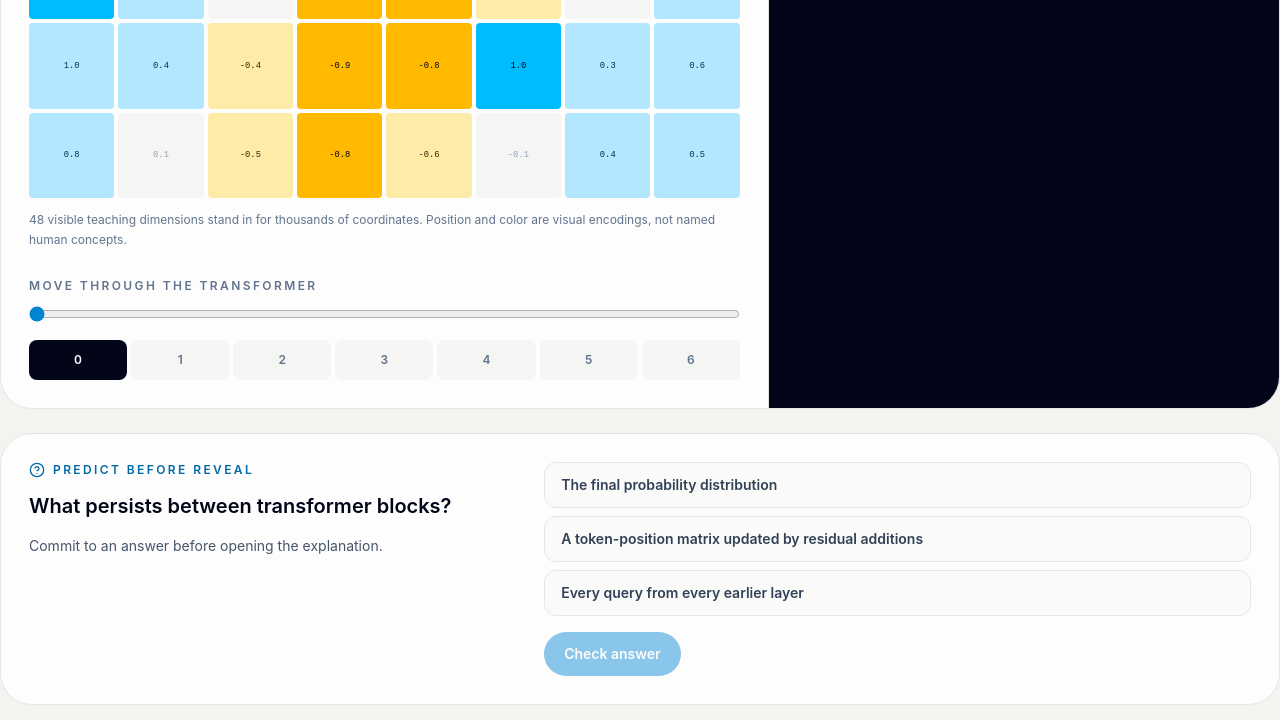
ResidualStreamLabPage › scrubs through an explicitly guided residual-stream trace
The width and height of the screenshot is (1280, 720).
(page scrolled)
What coordinates should you click on to do the following:
click the button with test id "residual-layer-6"
I would click on:
 (691, 360)
Its box is left=642, top=340, right=740, bottom=380.
(page scrolled)
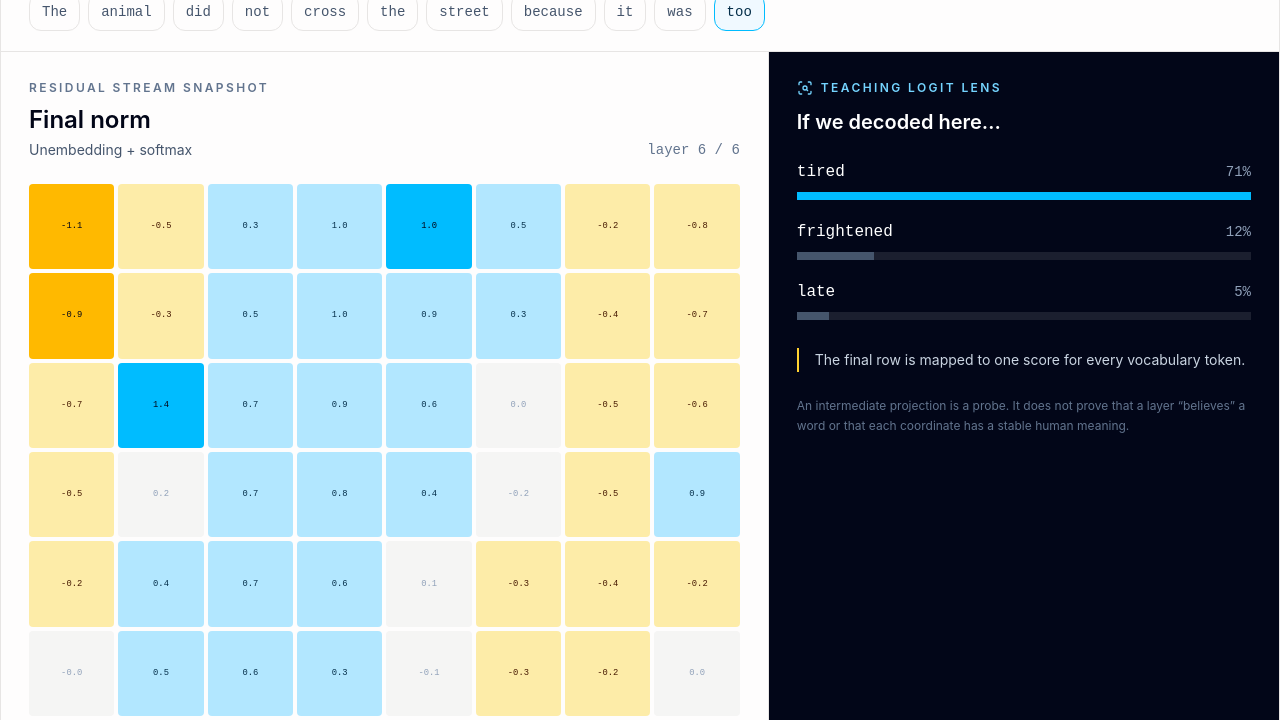
Expected: the element with test id "residual-candidates" shows "tired", left=797, top=163, right=845, bottom=181
Result: the heading with test id "residual-stage" reads "Final norm" at left=29, top=105, right=151, bottom=134
Result: the text with test id "residual-interpretation" shows "final row" at left=815, top=351, right=1245, bottom=368
